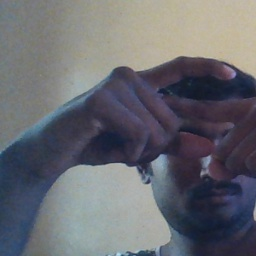E: (137, 52, 245, 175)
